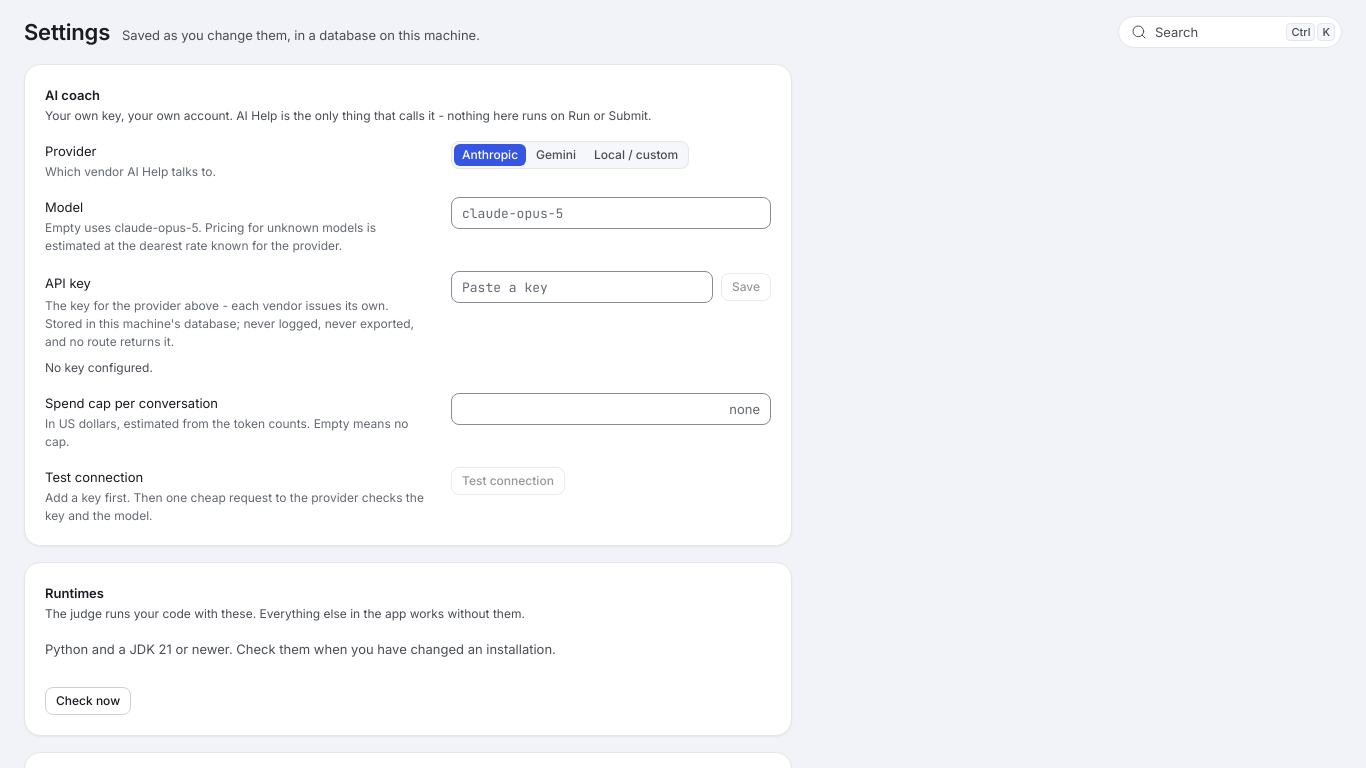
Test: Settings, coach section › never shows the key that was typed
Check: the text with test id "api-key-status" reads "No key configured.", box [45, 360, 153, 375]
Type "sk-ant-secret-value-3f9a" into the password field labelled "API key".
click(582, 287); type("sk-ant-secret-value-3f9a")  # box [451, 271, 713, 303]
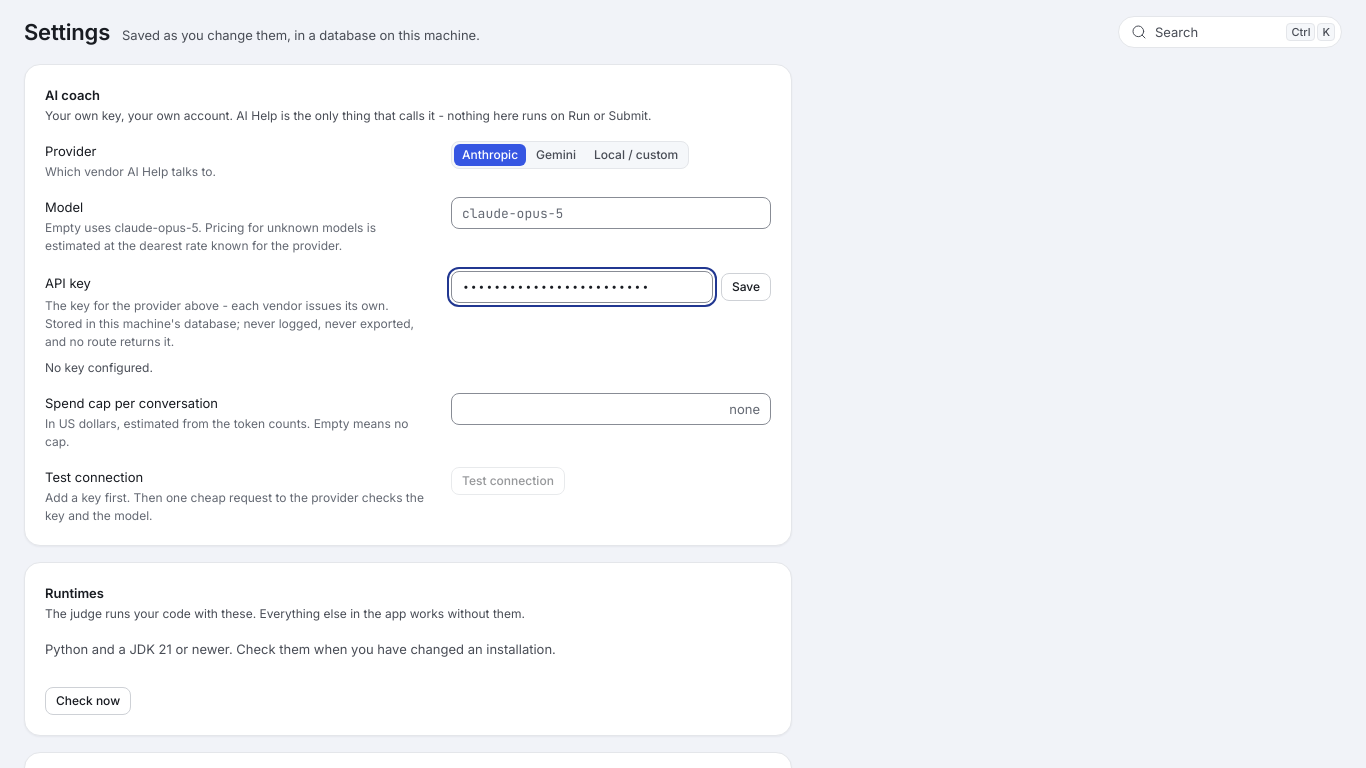
Click the button "Save".
click(746, 287)  # box [721, 273, 771, 301]
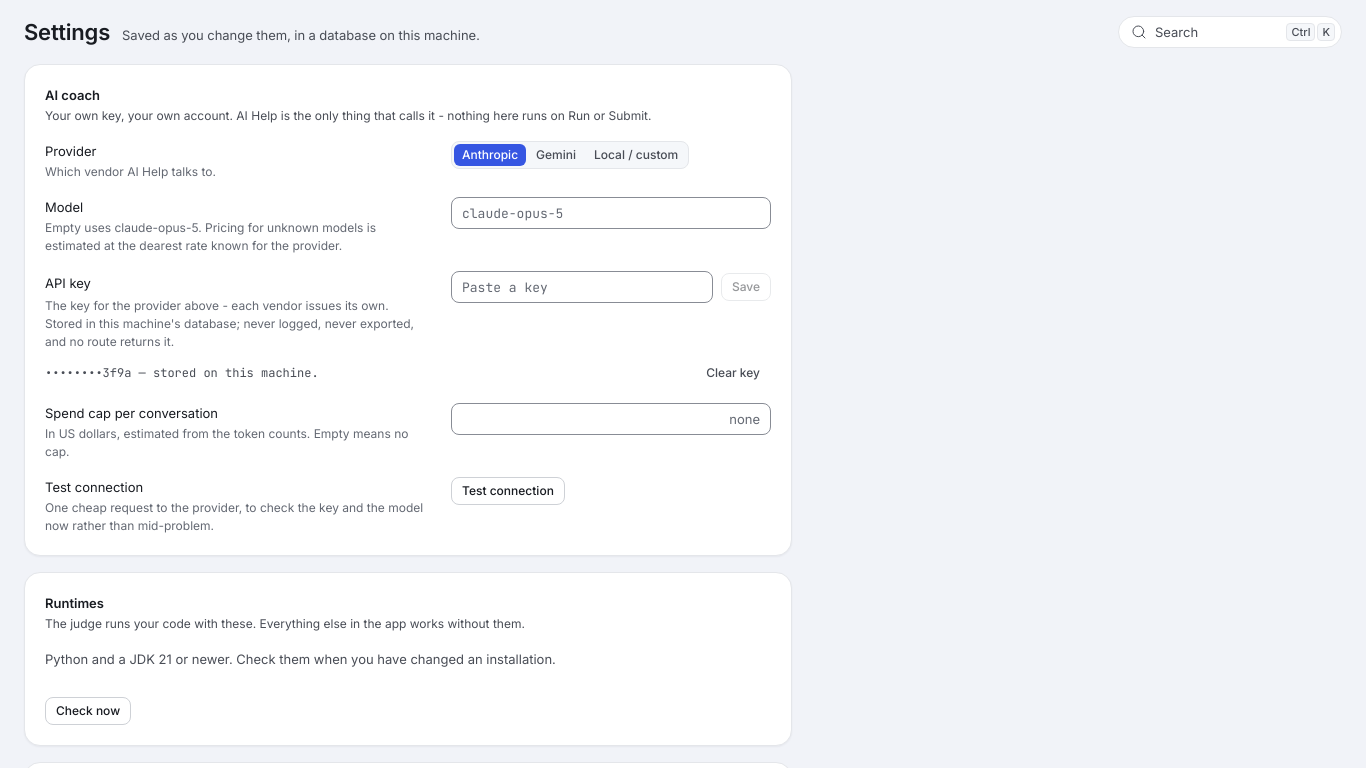
Check: the text with test id "api-key-status" does not show "secret", box [45, 364, 319, 382]
Check: the text with test id "api-key-status" shows "••••••••3f9a", box [45, 365, 319, 381]
Check: the password field labelled "API key" is empty, box [451, 271, 713, 303]
